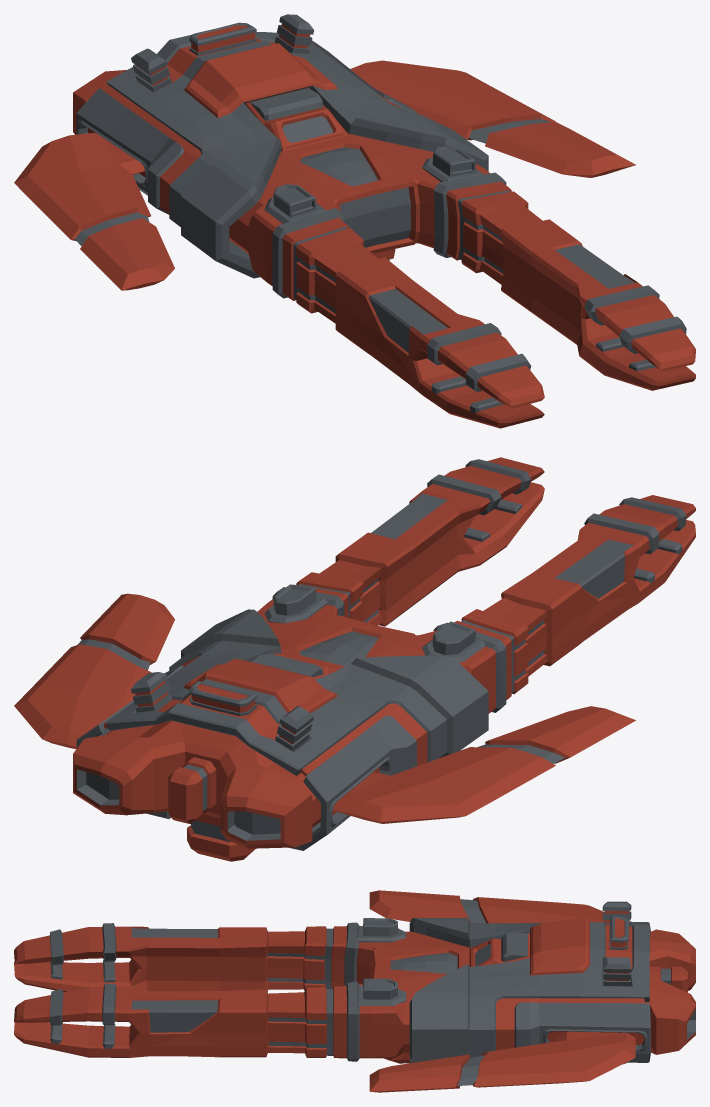
File: Fighter_01_Red.fbx
3 views of the same model, one above another, from view 1: azimuth 30°, elevation 25°; view 2: azimuth 150°, elevation 25°; view 3: azimuth 270°, elevation 25° (orthographic). The views are drawn at different scales.
Parts seen in each view (by area): view 1: Fighter_01_Red; view 2: Fighter_01_Red; view 3: Fighter_01_Red.
Boxes of the visible parts, left/top/right/bottom form: Fighter_01_Red: left=14, top=14, right=695, bottom=428; Fighter_01_Red: left=14, top=457, right=695, bottom=861; Fighter_01_Red: left=14, top=890, right=695, bottom=1092.
Size of the model in its own units: 854 by 257 by 1235.
2 materials, 2 textured.
